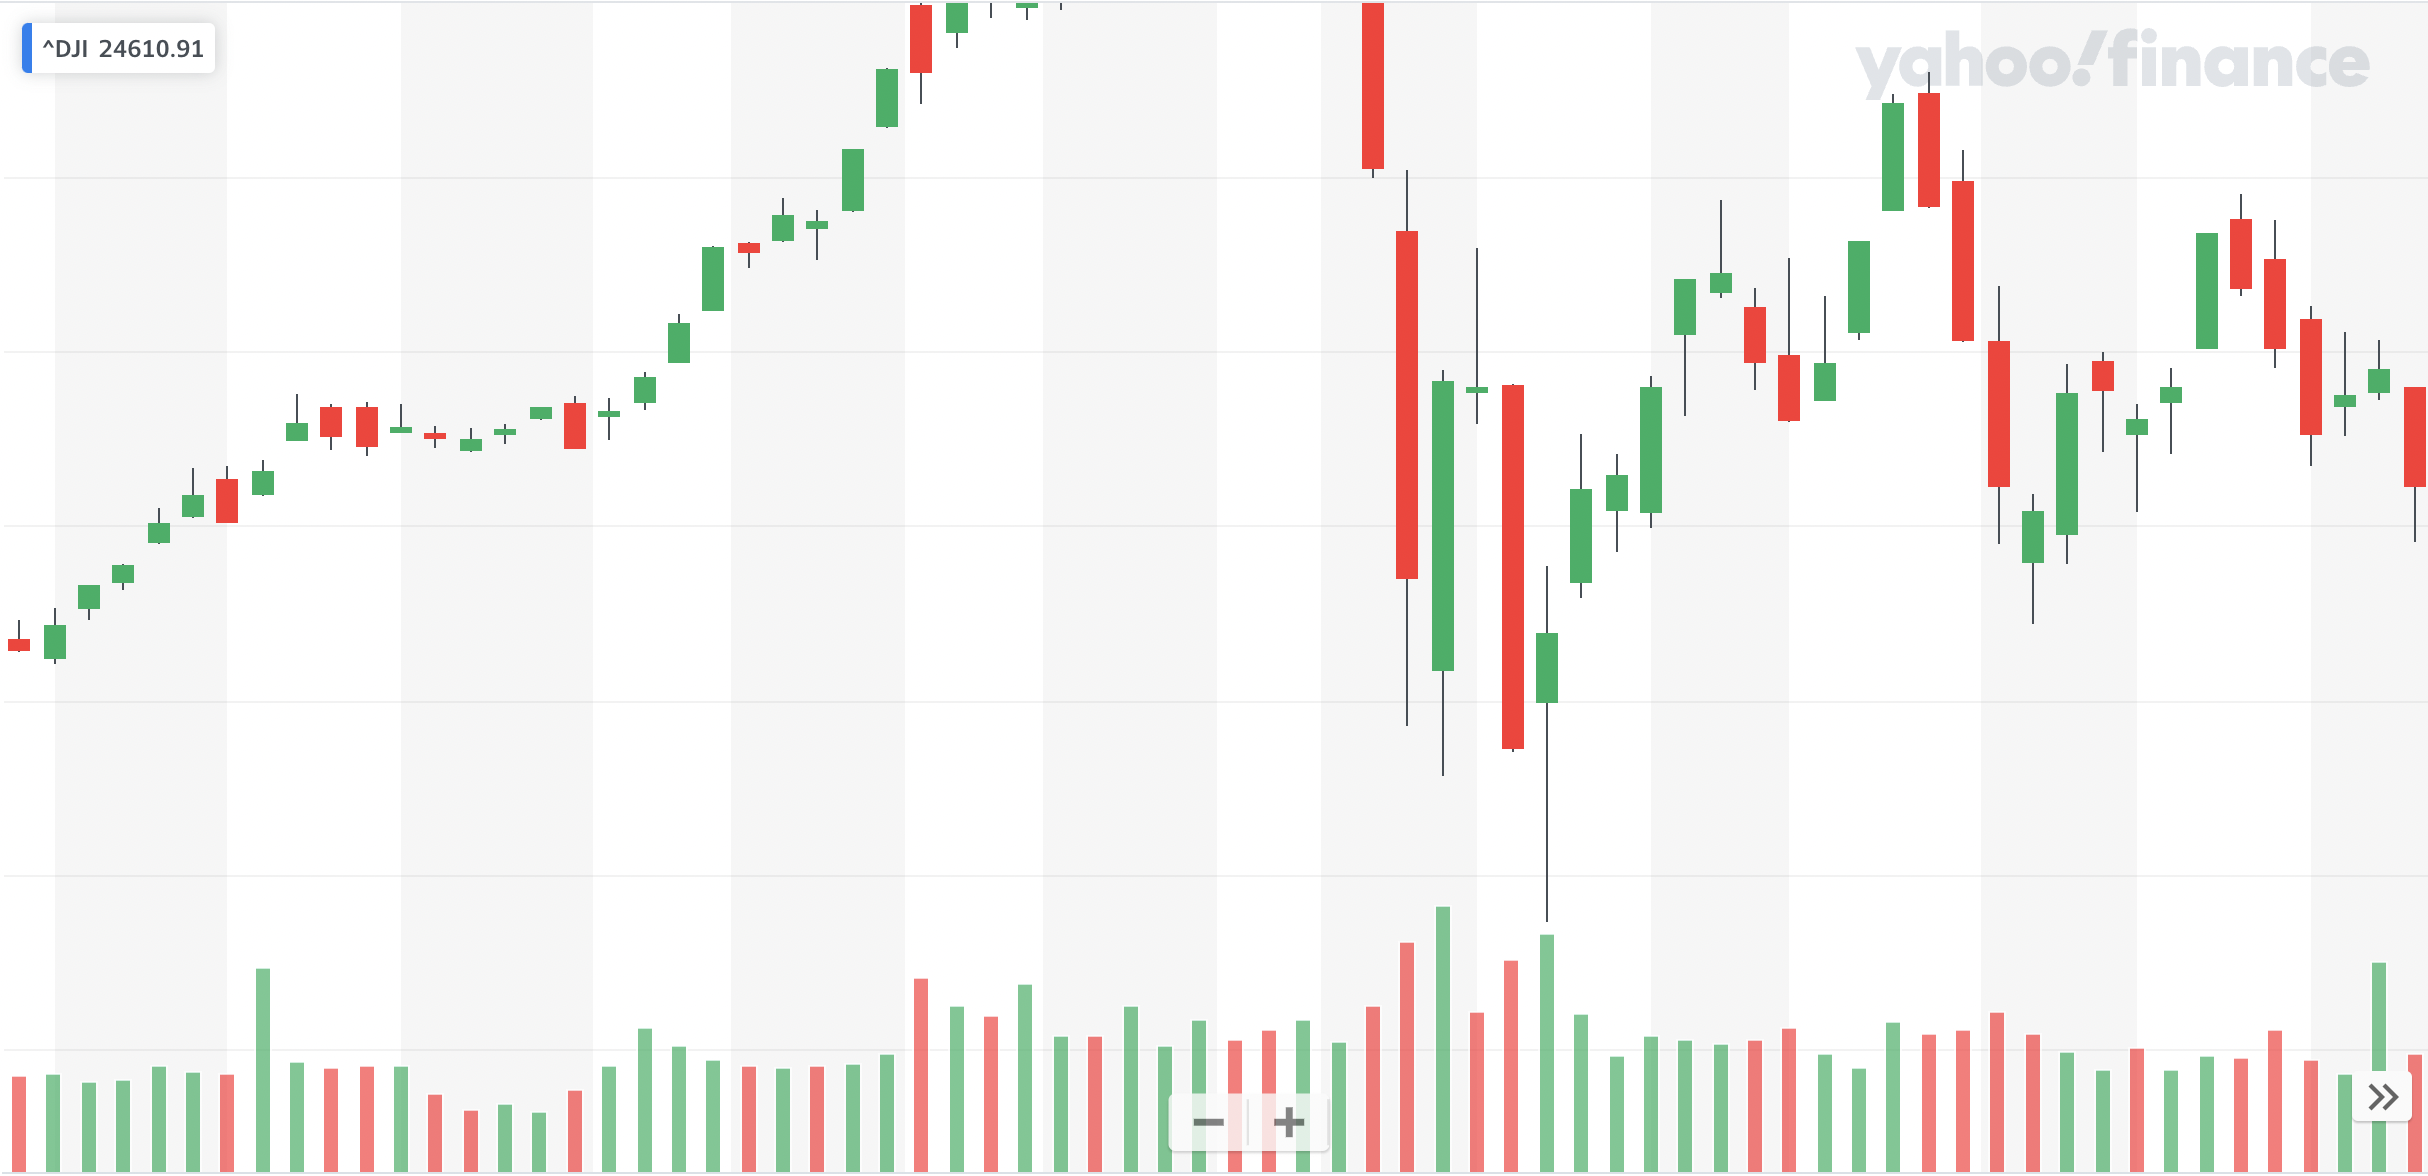Three Black Crows: (2168, 544, 2276, 848)
